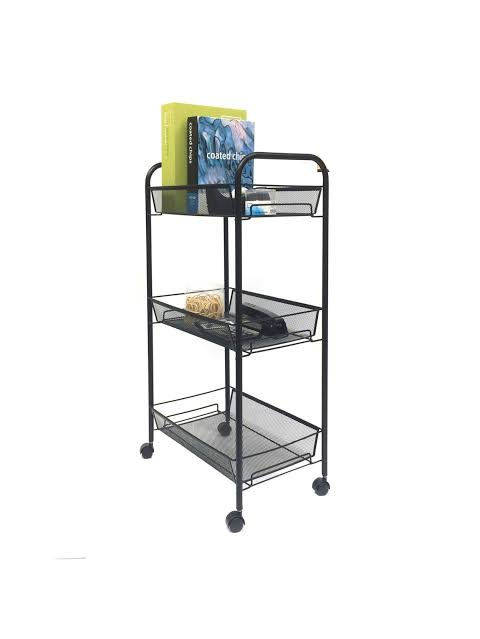Carts: (139, 153, 337, 532)
